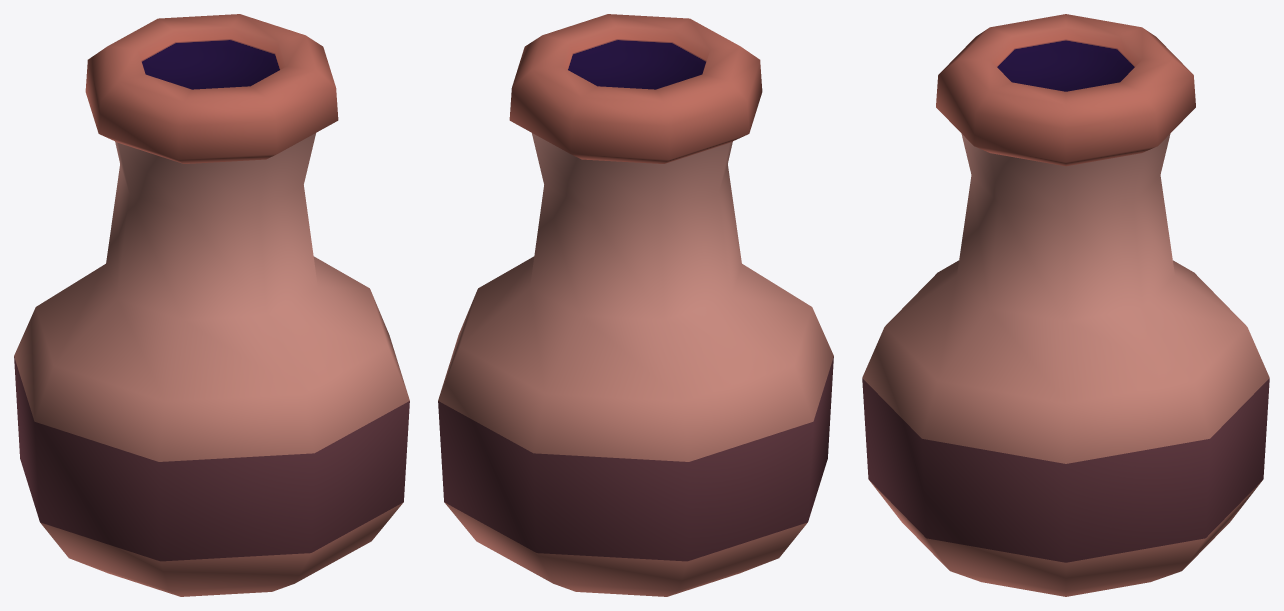
The model's file is Vase16.fbx.
3 views of the same model, side by side, from view 1: azimuth 30°, elevation 25°; view 2: azimuth 150°, elevation 25°; view 3: azimuth 270°, elevation 25° (orthographic).
Parts seen in each view (by area): view 1: Vase16; view 2: Vase16; view 3: Vase16.
Boxes of the visible parts, left/top/right/bottom form: Vase16: left=14, top=14, right=409, bottom=596; Vase16: left=438, top=14, right=833, bottom=596; Vase16: left=862, top=14, right=1269, bottom=596.
Bounding box in the file's own units: 68.22 × 89.95 × 68.22.
